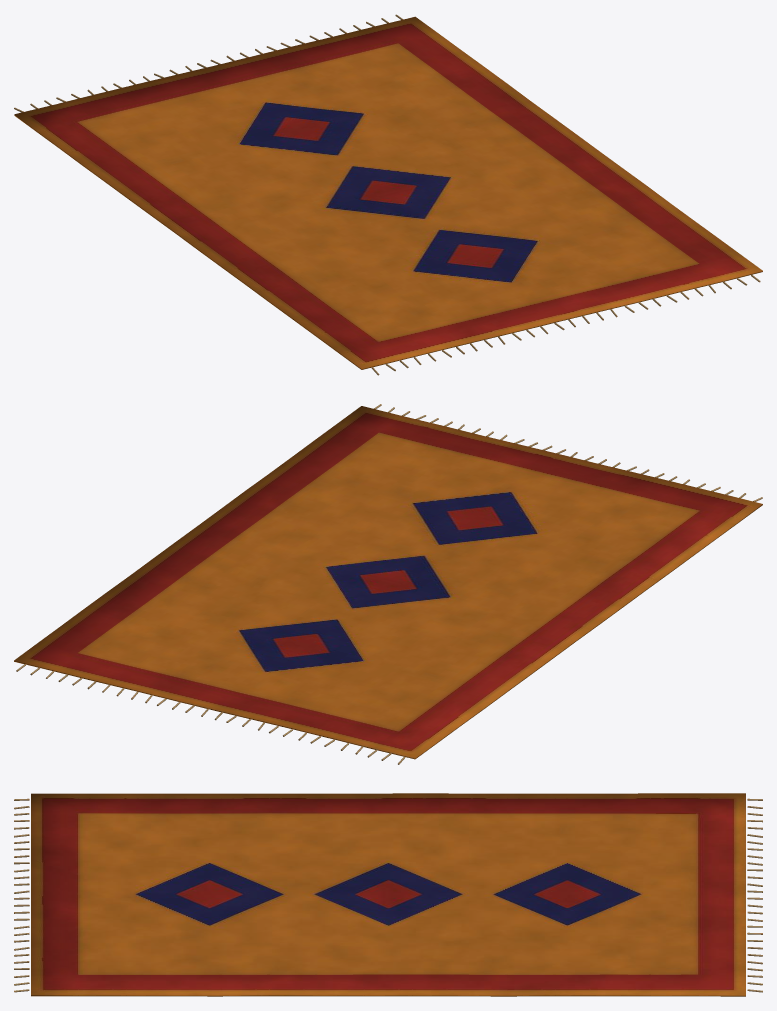
The model's file is rug.glb.
The picture shows the model from 3 angles, top to bottom: view 1: azimuth 30°, elevation 25°; view 2: azimuth 150°, elevation 25°; view 3: azimuth 270°, elevation 25°; orthographic projection. The views are drawn at different scales.
Parts seen in each view (by area): view 1: rug; view 2: rug; view 3: rug.
Part boxes in pixels (x1,y1,x2,y2): rug: (14, 14, 762, 375); rug: (14, 404, 762, 764); rug: (14, 793, 762, 996).
Bounding box in the file's own units: 2 × 0.0153 × 3.14.
1 material, 1 textured.
